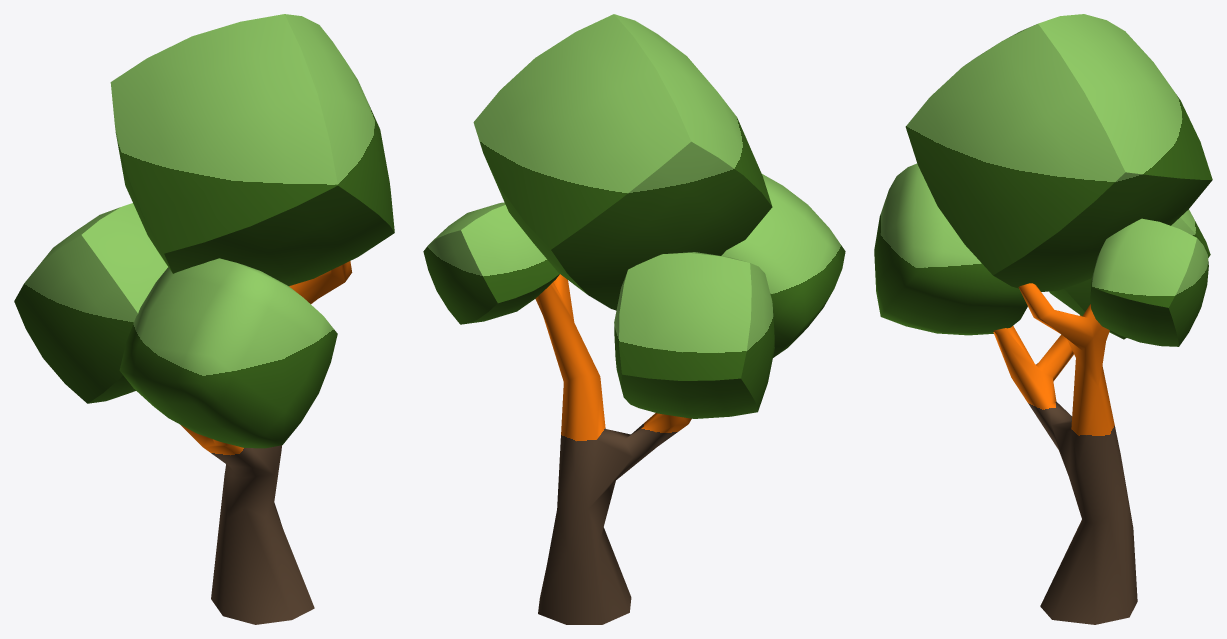
The model's file is tree_round1.obj.
3 renders of one model, left to right at view 1: azimuth 30°, elevation 25°; view 2: azimuth 150°, elevation 25°; view 3: azimuth 270°, elevation 25°, orthographic. The views are drawn at different scales.
Visible parts, largest first — view 1: Tree.028_Circle.008; view 2: Tree.028_Circle.008; view 3: Tree.028_Circle.008.
Part boxes in pixels (box(x1,y1,x2,y2)): Tree.028_Circle.008: box(14, 14, 394, 624); Tree.028_Circle.008: box(423, 14, 845, 624); Tree.028_Circle.008: box(874, 14, 1212, 624).
Size of the model in its own units: 4.38 by 7.59 by 4.02.
1 material, 1 textured.
